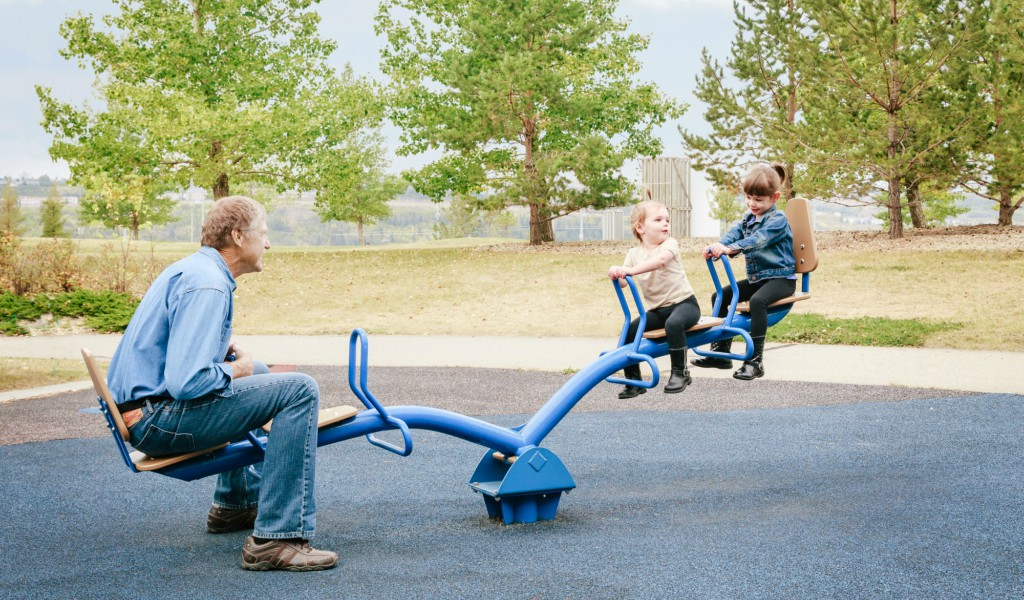Person: (89, 179, 355, 579), (586, 188, 715, 401), (693, 154, 816, 372)
